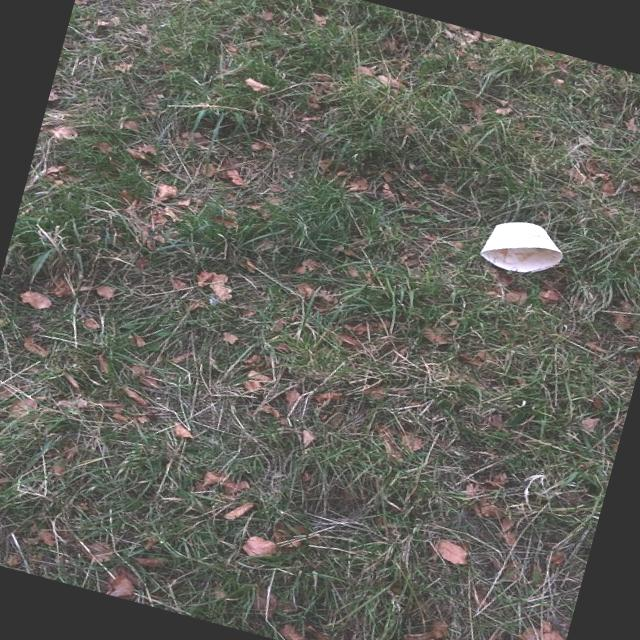Recycle: (482, 214, 568, 284)
